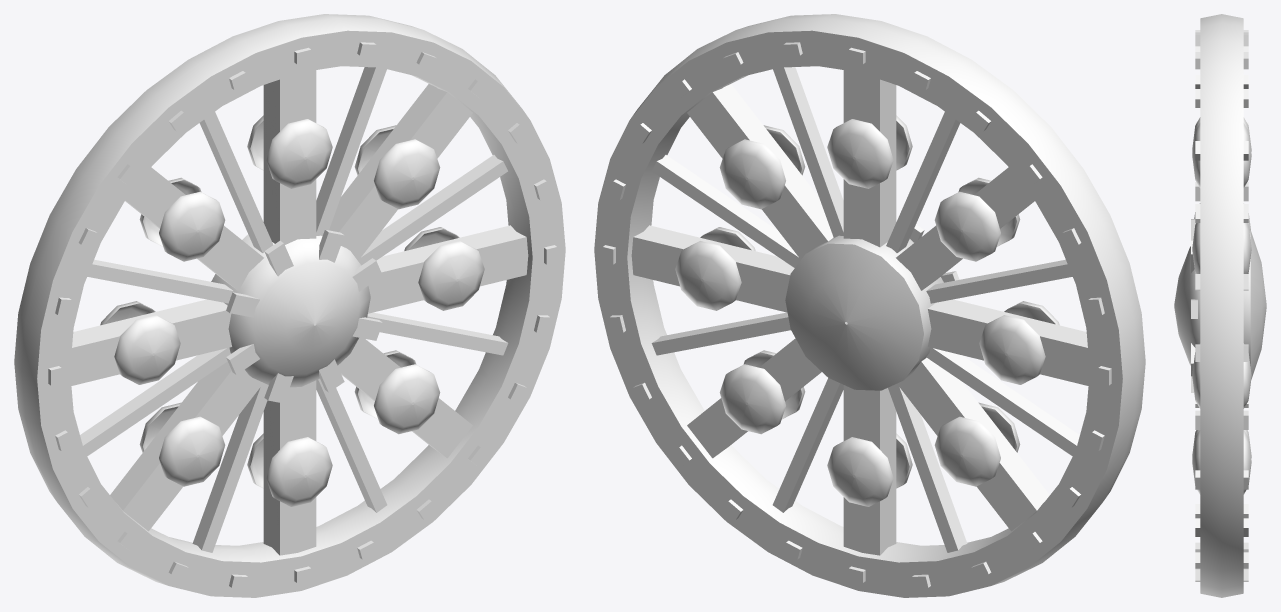
Rendered from chakra.glb.
3 renders of one model, left to right at view 1: azimuth 30°, elevation 25°; view 2: azimuth 150°, elevation 25°; view 3: azimuth 270°, elevation 25°, orthographic. The views are drawn at different scales.
Parts seen in each view (by area): view 1: Chakra; view 2: Chakra; view 3: Chakra.
Part boxes in pixels (bbox=[...]): Chakra: bbox=[14, 14, 565, 597]; Chakra: bbox=[594, 14, 1145, 597]; Chakra: bbox=[1174, 14, 1266, 597].
Bounding box in the file's own units: 8.12 × 8.12 × 1.28.
1 material, 1 textured.
